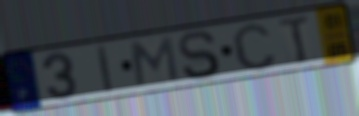3: (41, 50, 79, 102)
C: (230, 21, 279, 73)
I: (95, 43, 116, 95)
M: (128, 35, 181, 89)
S: (176, 29, 222, 82)
T: (277, 13, 313, 66)
